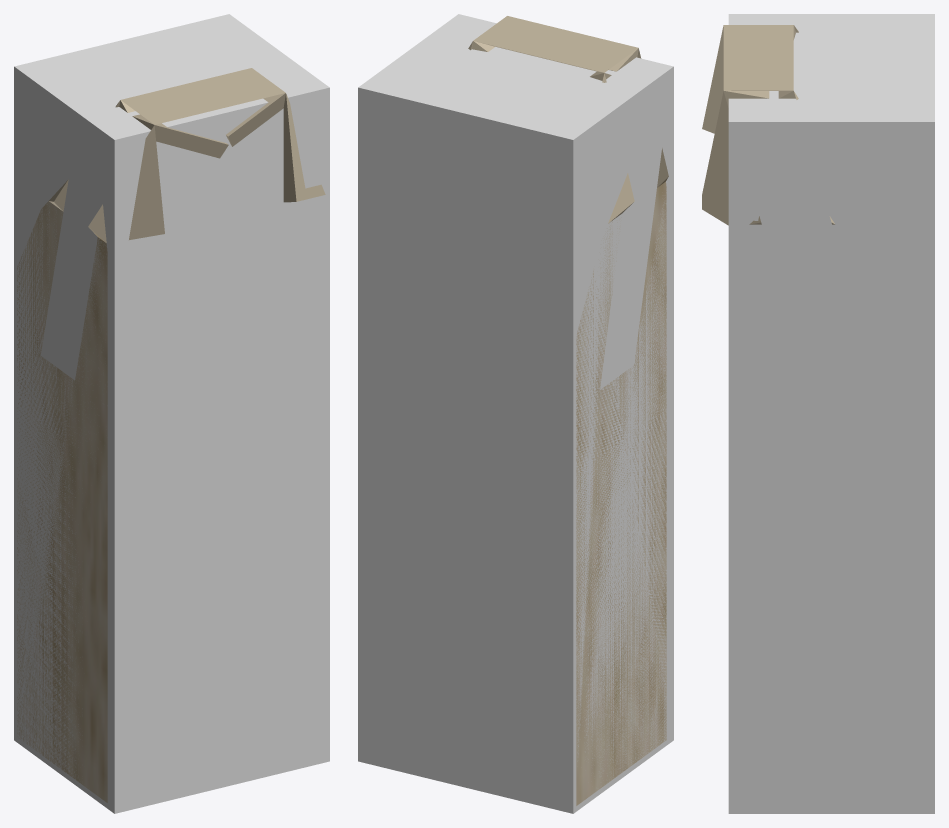
The model's file is Breaked.gltf.
3 views of the same model, side by side, from view 1: azimuth 30°, elevation 25°; view 2: azimuth 150°, elevation 25°; view 3: azimuth 270°, elevation 25° (orthographic). The views are drawn at different scales.
Visible parts, largest first — view 1: COL, Cube; view 2: COL, Cube; view 3: COL, Cube.
Boxes of the visible parts, bbox=[...] form: COL: bbox=[14, 14, 329, 813]; Cube: bbox=[17, 68, 325, 802]; COL: bbox=[358, 14, 673, 813]; Cube: bbox=[468, 16, 668, 805]; COL: bbox=[728, 14, 934, 813]; Cube: bbox=[702, 25, 834, 225].
Size of the model in its own units: 1.16 by 3.3 by 0.9961.
Materials: 1 (1 with a texture image).
